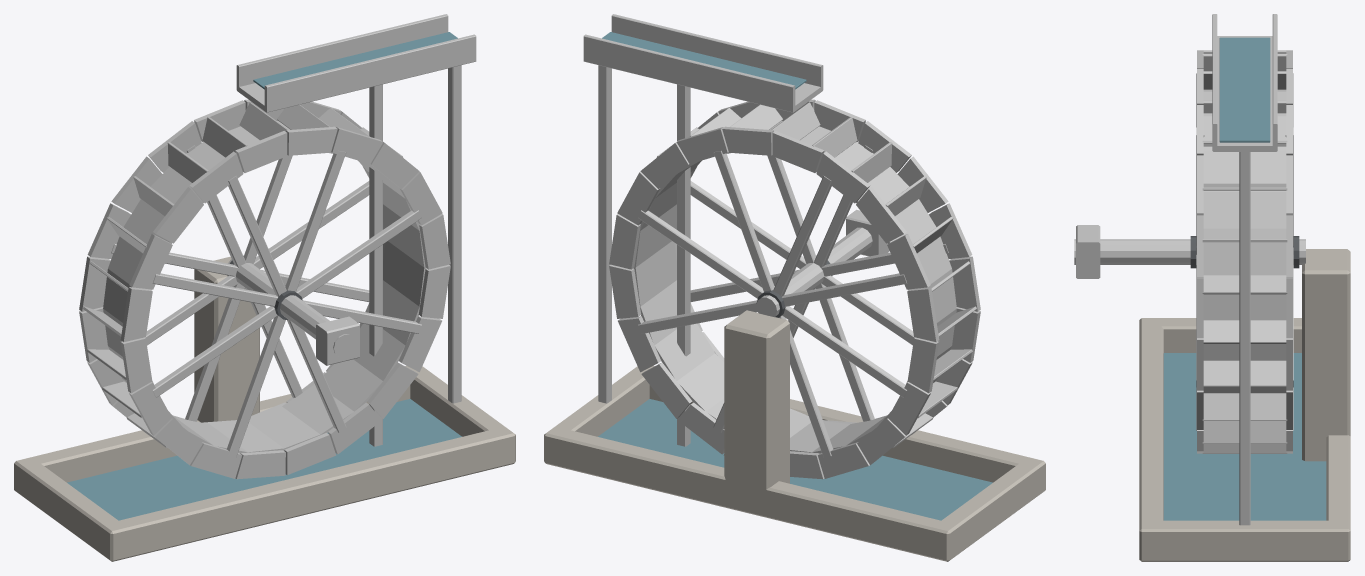
Rendered from shire_waterwheel.glb.
The picture shows the model from 3 angles, left to right: view 1: azimuth 30°, elevation 25°; view 2: azimuth 150°, elevation 25°; view 3: azimuth 270°, elevation 25°; orthographic projection. The views are drawn at different scales.
Visible parts, largest first — view 1: shire_waterwheel; view 2: shire_waterwheel; view 3: shire_waterwheel.
Boxes of the visible parts, x1,y1,x2,y2 form: shire_waterwheel: [14, 14, 515, 561]; shire_waterwheel: [544, 14, 1045, 561]; shire_waterwheel: [1074, 14, 1350, 561].
Size of the model in its own units: 6.2 by 5.91 by 3.4.
